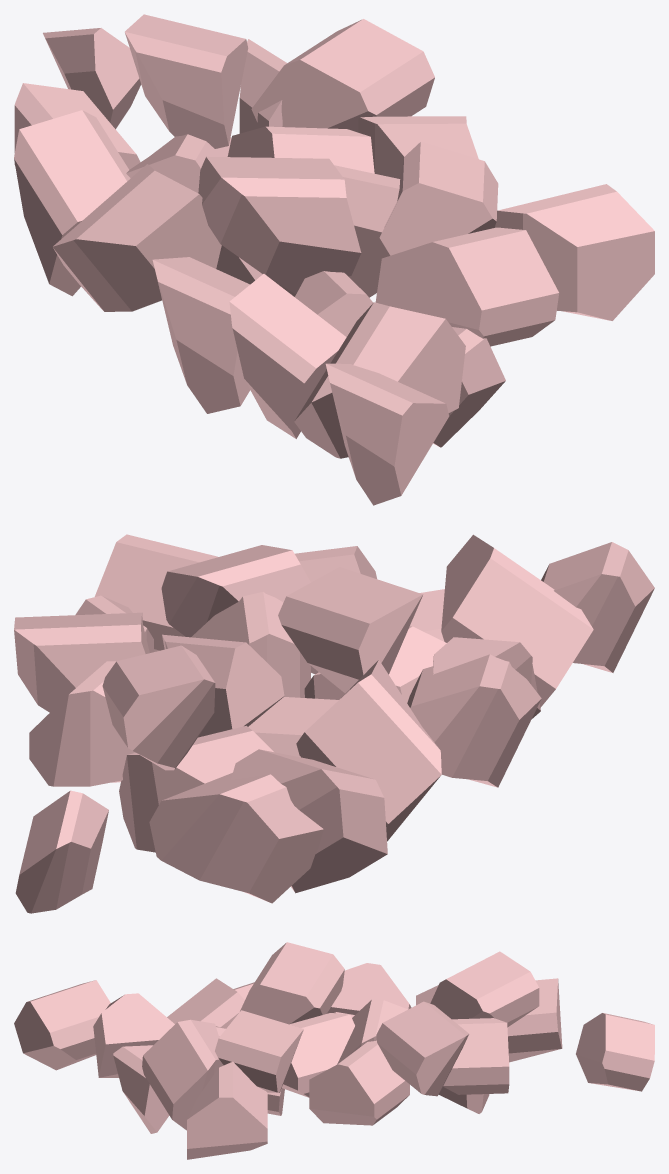
The model's file is chopped onion.fbx.
3 renders of one model, top to bottom at view 1: azimuth 30°, elevation 25°; view 2: azimuth 150°, elevation 25°; view 3: azimuth 270°, elevation 25°, orthographic. The views are drawn at different scales.
Visible parts, largest first — view 1: Cube.018; view 2: Cube.018; view 3: Cube.018.
Boxes of the visible parts, box(x1,y1,x2,y2) form: Cube.018: box(14, 14, 654, 505); Cube.018: box(14, 534, 654, 913); Cube.018: box(14, 942, 654, 1159).
Size of the model in its own units: 372 by 189 by 673.
